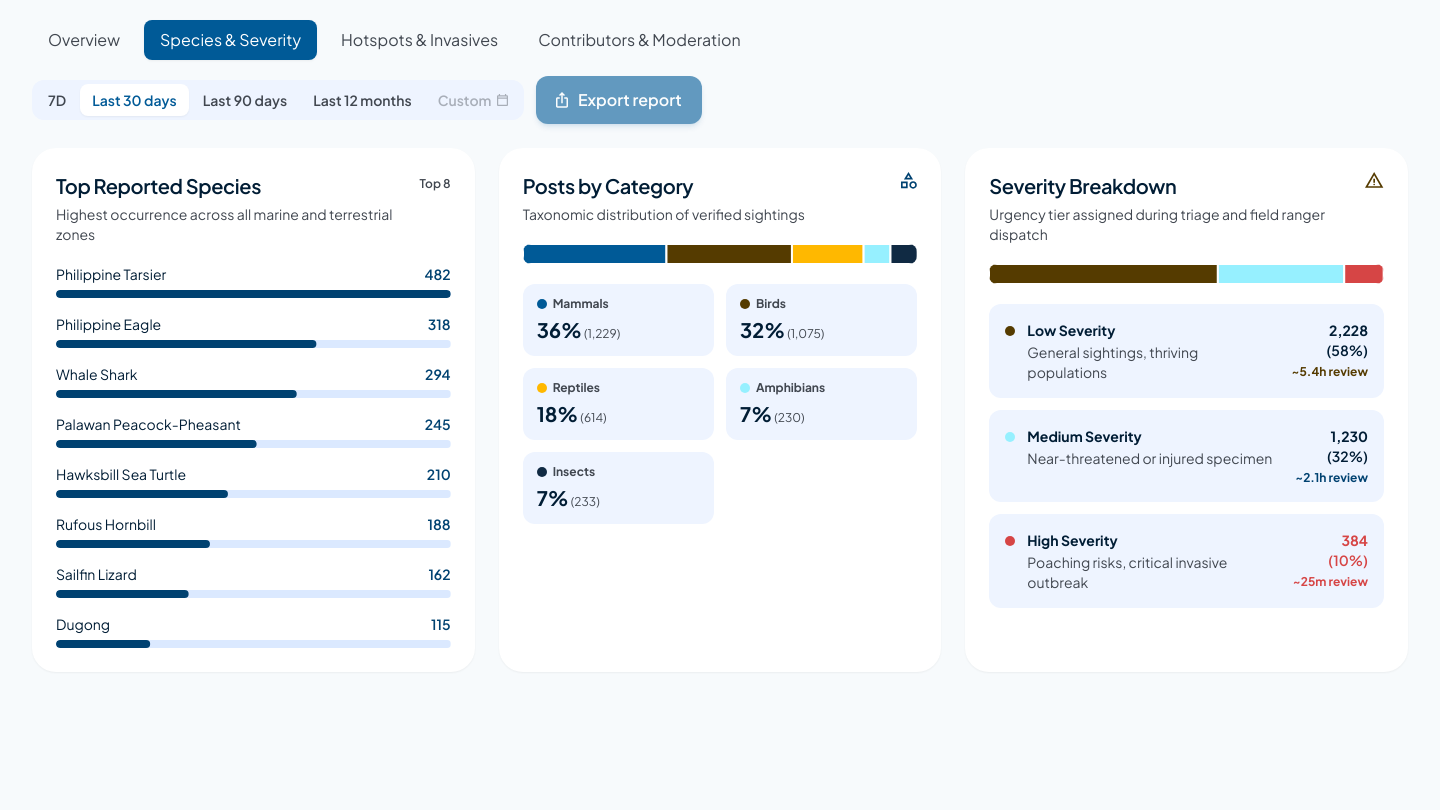
Test case: AnalyticsScreen › reloads the tab's data for a new date range
Expected: the text "482" is shown, [424,264,451,284]
Click the button "7D".
click(57, 100)  # box [36,84,78,116]
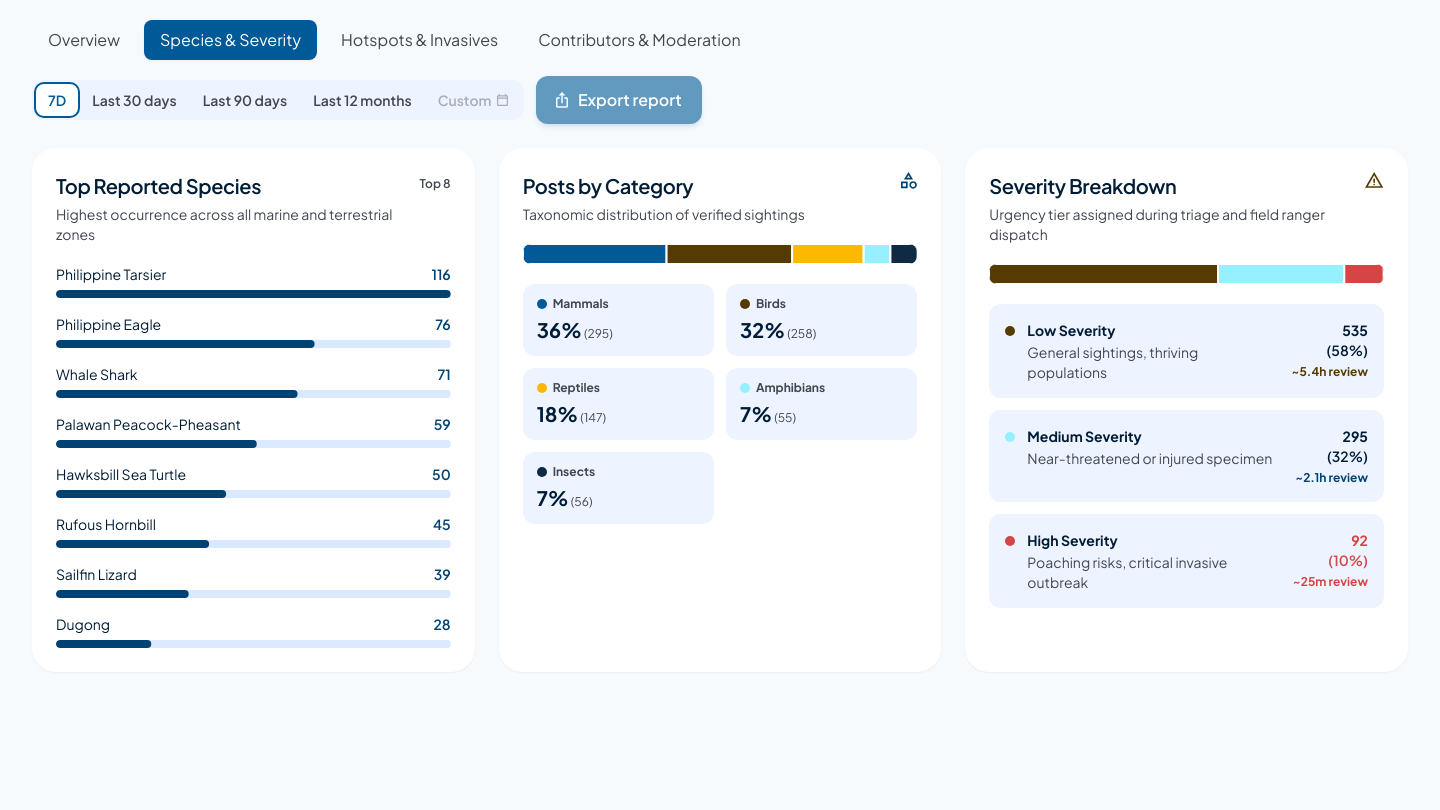
Result: the text "116" is shown at [431,264,451,284]
